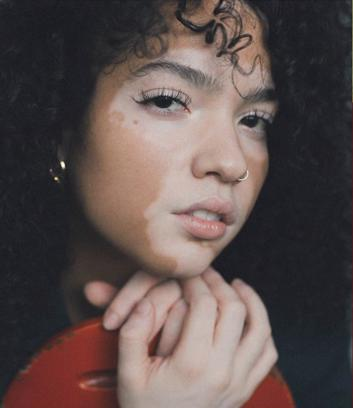Sober: (93, 13, 268, 272)
